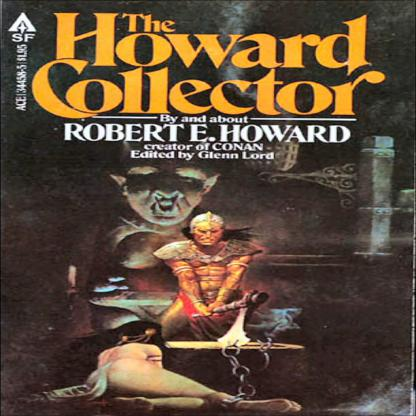book: (0, 3, 398, 341)
